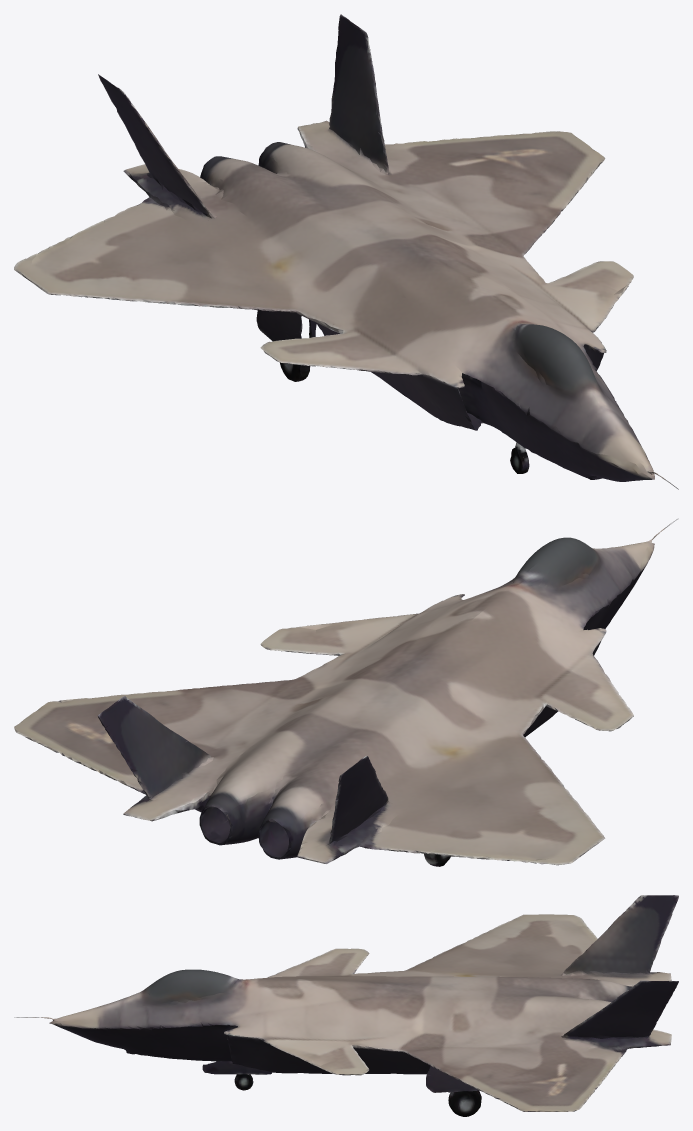
The model's file is J-20_Mighty_Dragon_AI_Rodin.glb.
3 renders of one model, top to bottom at view 1: azimuth 30°, elevation 25°; view 2: azimuth 150°, elevation 25°; view 3: azimuth 270°, elevation 25°, orthographic. The views are drawn at different scales.
Parts seen in each view (by area): view 1: model; view 2: model; view 3: model.
Part boxes in pixels (x1=…): model: x1=14, y1=14, x2=678, y2=489; model: x1=14, y1=518, x2=678, y2=866; model: x1=14, y1=895, x2=678, y2=1116.
Bounding box in the file's own units: 1.33 × 0.4809 × 1.9.
1 material, 1 textured.
